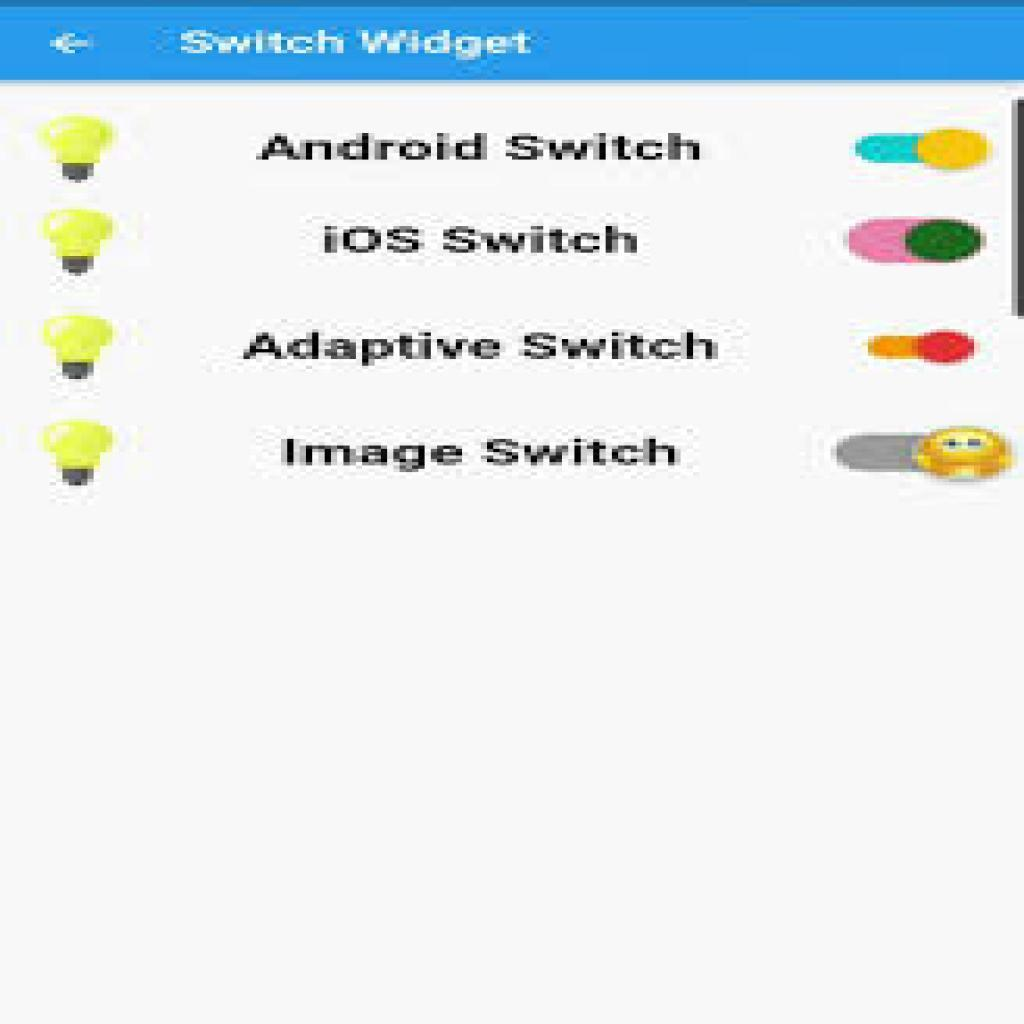label: (224, 319, 726, 375), (274, 424, 690, 486), (249, 127, 711, 178), (314, 219, 650, 267)
switch: (828, 428, 1012, 486), (841, 214, 989, 269), (849, 122, 995, 175), (860, 329, 981, 374)
